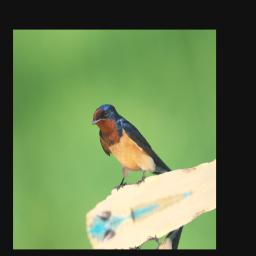Swallow: (88, 84, 173, 199)
